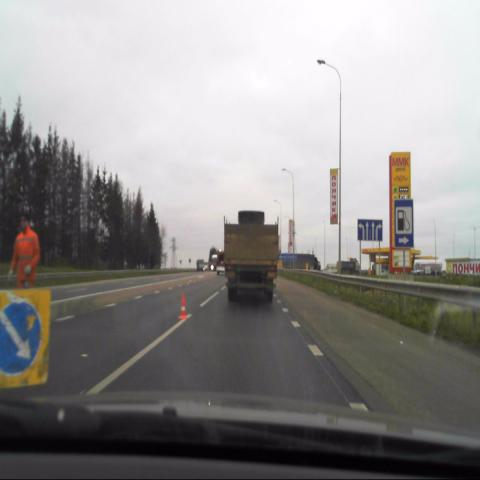7_3: (395, 200, 414, 249)
